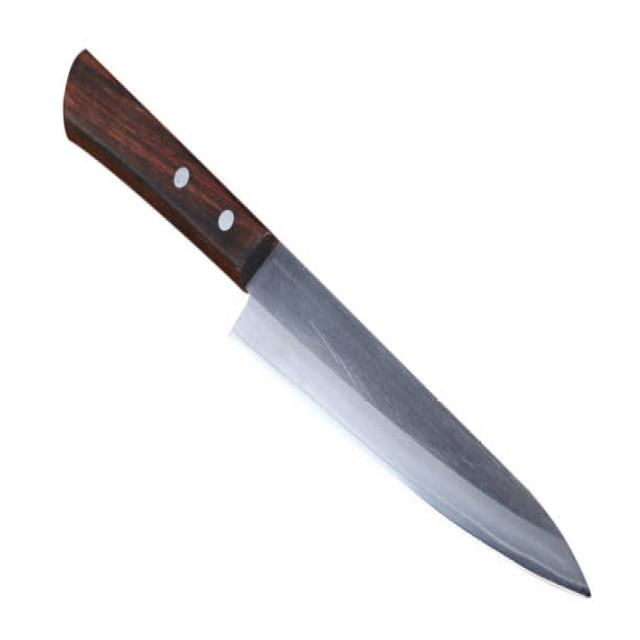knife: (55, 39, 597, 612)
